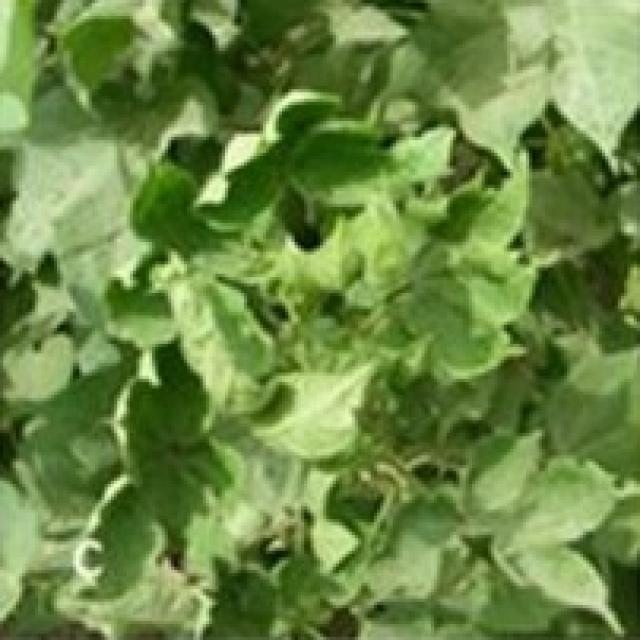Leaf Curl Virus: (100, 103, 500, 502)
